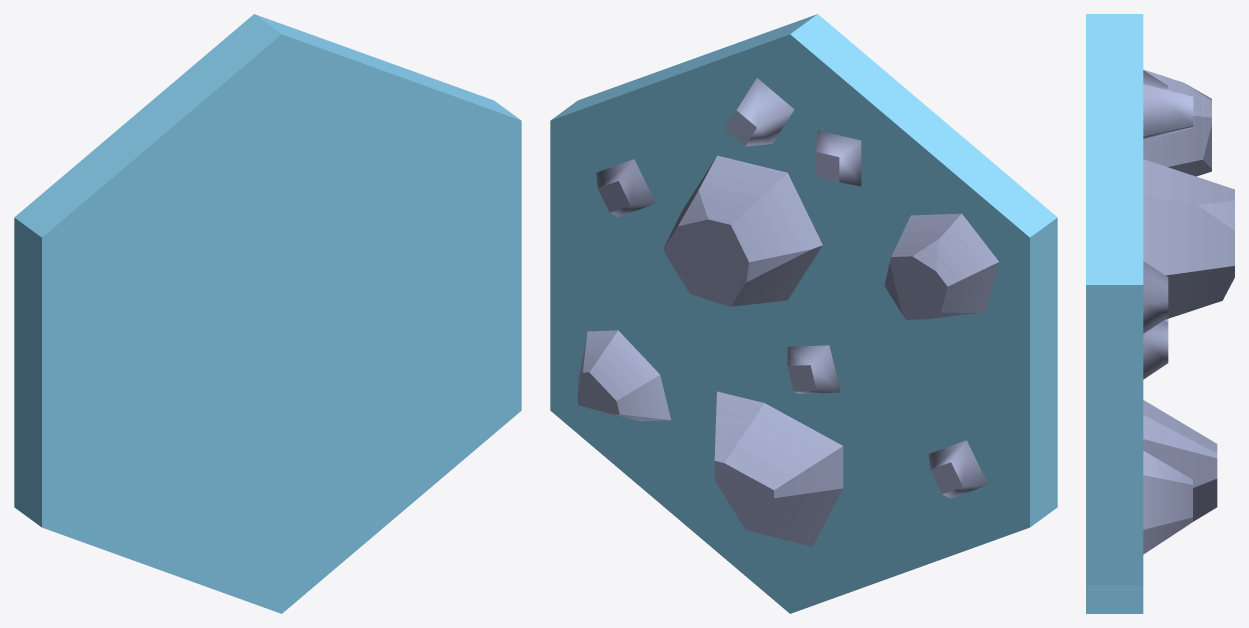
File: water-rocks.obj
The picture shows the model from 3 angles, left to right: view 1: azimuth 30°, elevation 25°; view 2: azimuth 150°, elevation 25°; view 3: azimuth 270°, elevation 25°; orthographic projection. The views are drawn at different scales.
Visible parts, largest first — view 1: water-rocks.006; view 2: water-rocks.006; view 3: water-rocks.006.
Boxes of the visible parts, x1,y1,x2,y2 form: water-rocks.006: (14, 14, 521, 613); water-rocks.006: (550, 14, 1057, 613); water-rocks.006: (1086, 14, 1234, 613).
Size of the model in its own units: 1 by 1.15 by 0.2593.
1 material, 1 textured.
